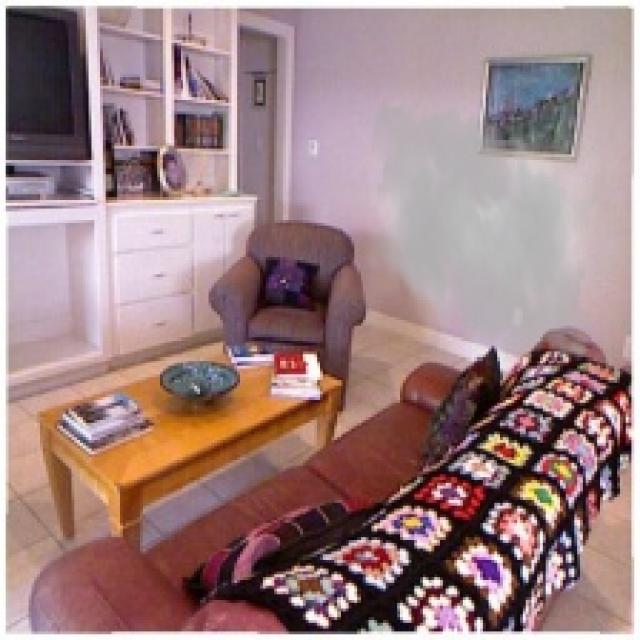smoke: (346, 91, 611, 372)
